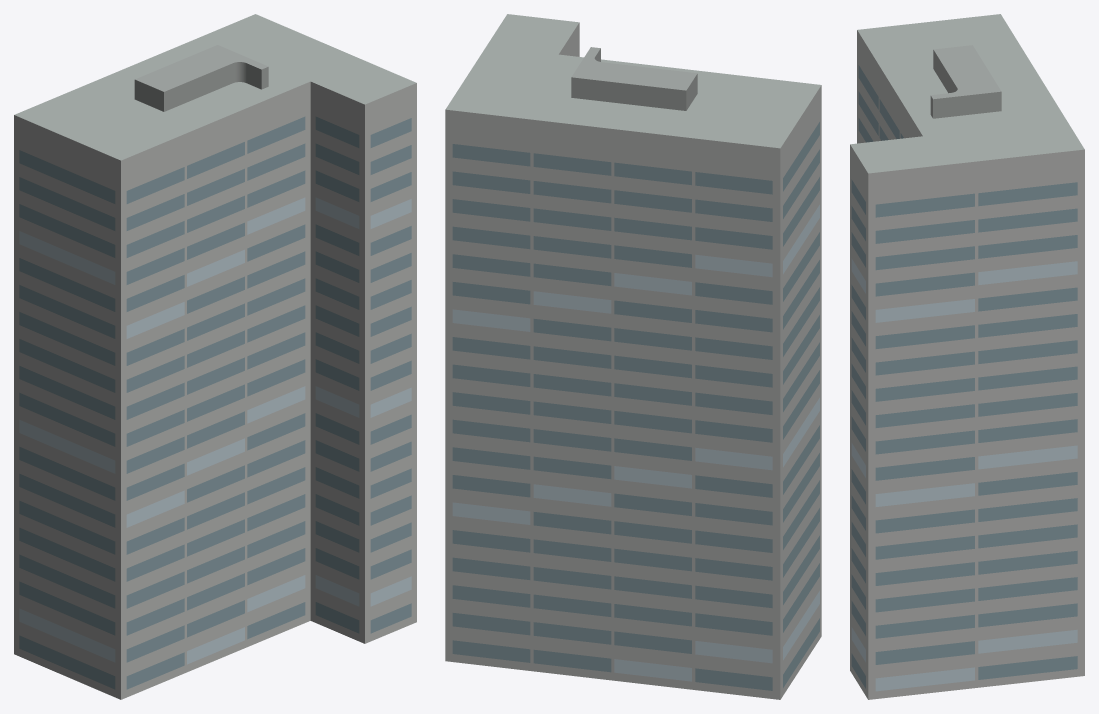
Rendered from apt-a10023990.glb.
3 views of the same model, side by side, from view 1: azimuth 30°, elevation 25°; view 2: azimuth 150°, elevation 25°; view 3: azimuth 270°, elevation 25° (orthographic). The views are drawn at different scales.
Parts seen in each view (by area): view 1: apt-a10023990; view 2: apt-a10023990; view 3: apt-a10023990.
Part boxes in pixels (left/top/right/bottom): apt-a10023990: left=14, top=14, right=416, bottom=699; apt-a10023990: left=445, top=14, right=821, bottom=699; apt-a10023990: left=850, top=14, right=1084, bottom=699.
Size of the model in its own units: 41.98 by 67 by 26.1.
